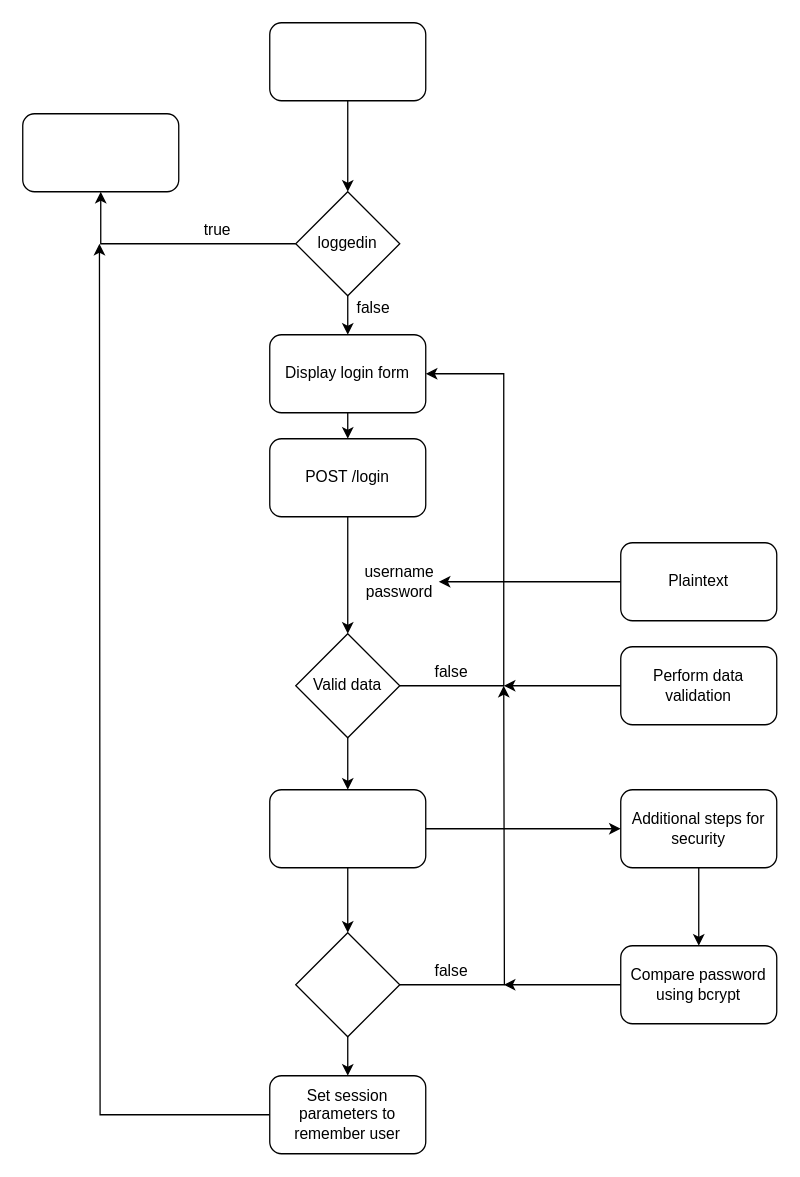
This 800x1177 diagram has some shape labels left out. The centre of each missing label's shape, as x and y in pixels:
Compare result: (x=347, y=984)
Fetch records from database: (x=347, y=828)
GET /dashboard: (x=100, y=152)
GET /login: (x=347, y=61)
